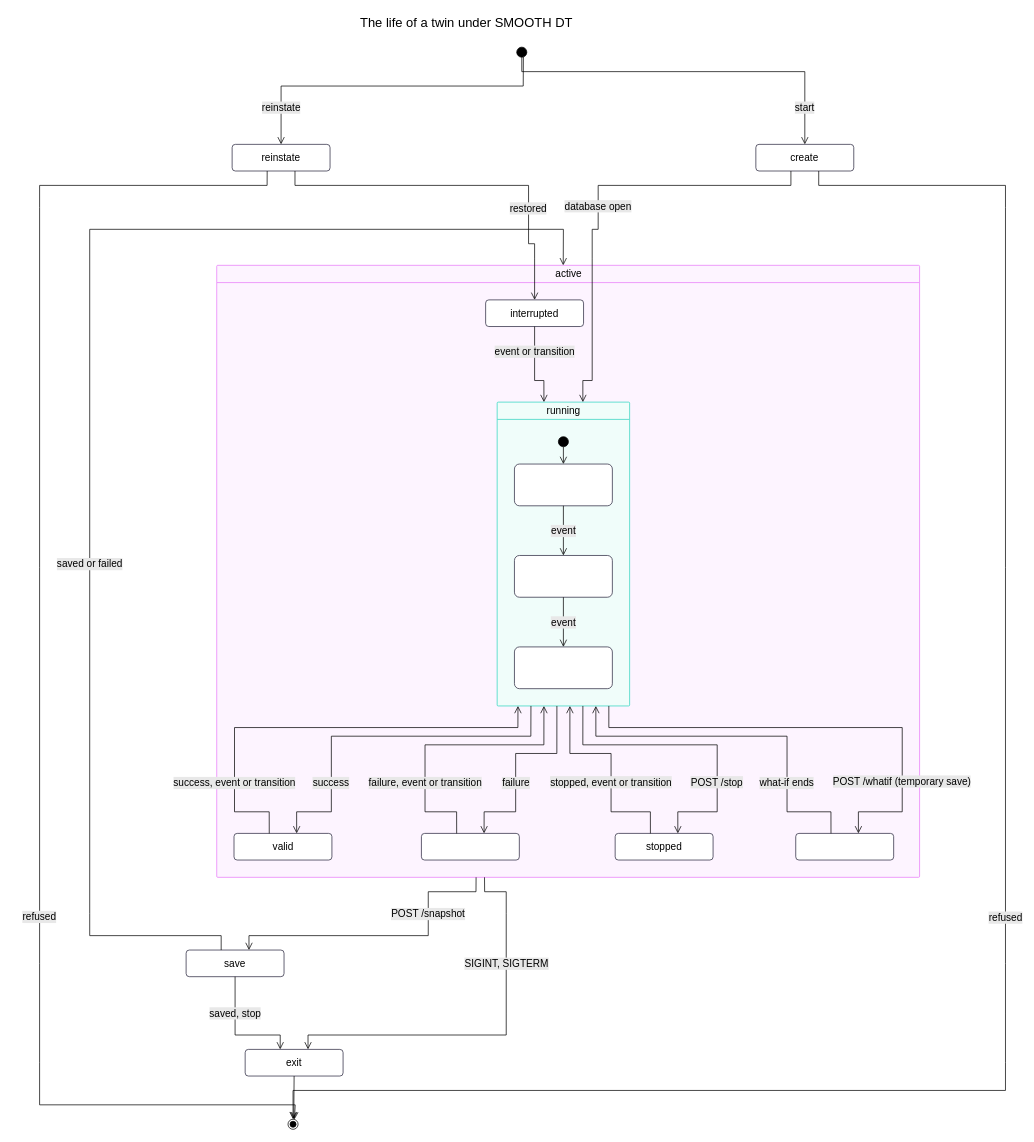
Some shapes in this 1034 by 1142 pixel diagram are drawn without their labels. Each missing label, with the centre of its shape:
class state A, behavior a: point 563,484
class state B, behavior b: point 563,576
class state C, behavior c: point 563,667
invalid: point 470,846
whatif: point 844,846
